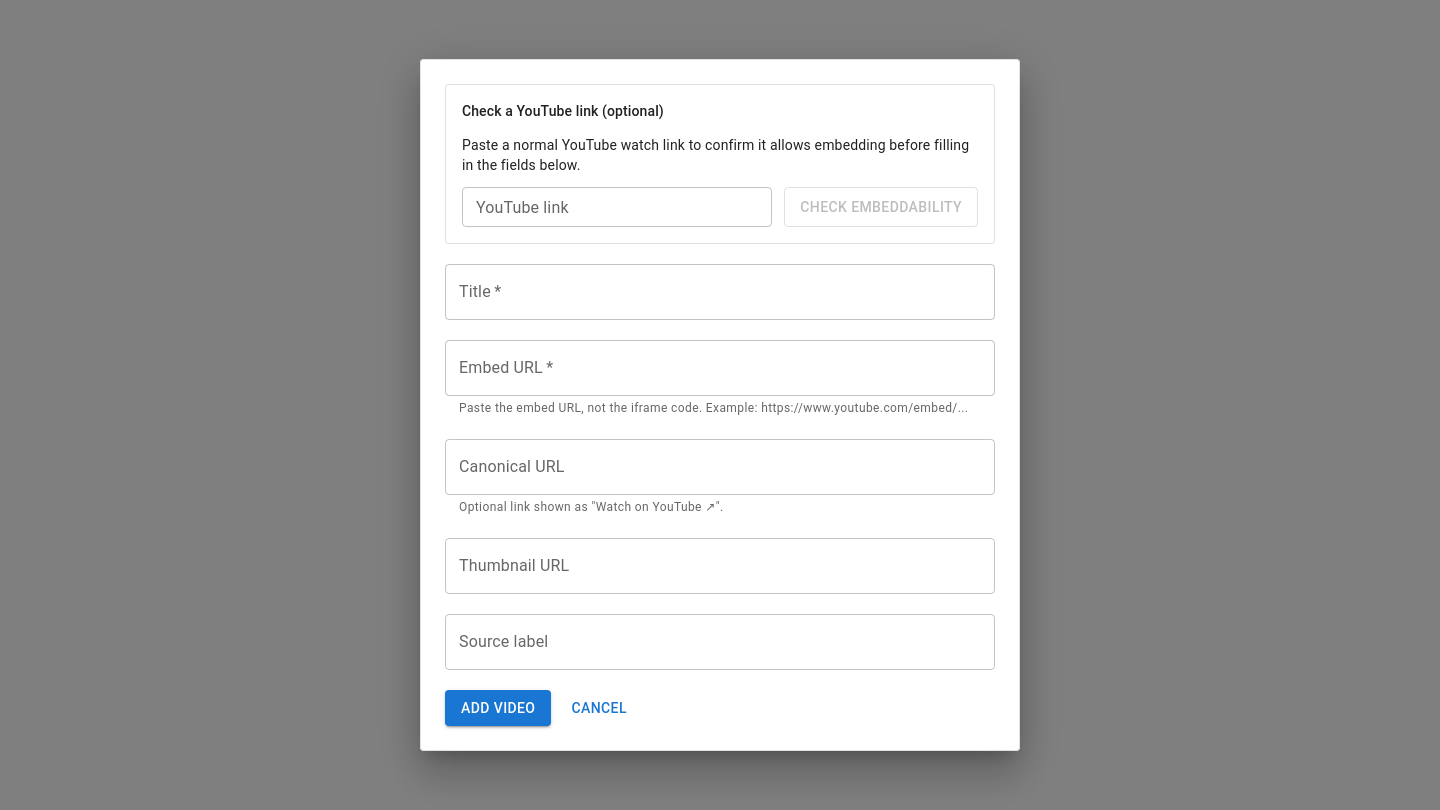
it: CuratedVideoForm — YouTube checker integration › rejects an oEmbed check URL typed directly into Embed URL, with a clear explanation
Type "Test video" into the field labelled "Title" at {"x": 720, "y": 292}, box left=445, top=264, right=995, bottom=320
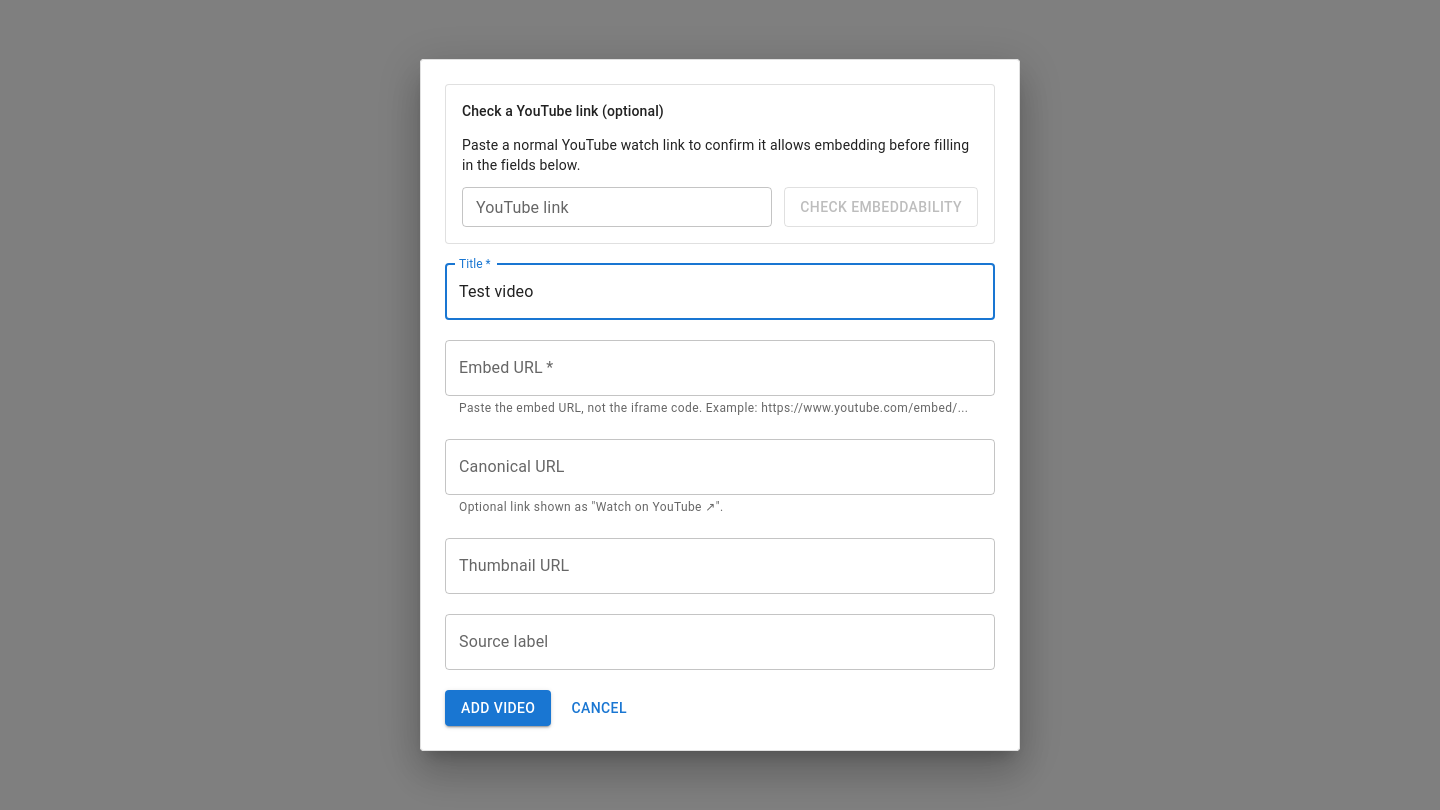
Type "https://www.youtube.com/oembed?url=https://www.youtube.com/watch?v=xWr-cyWMdJ4" into the field labelled "Embed URL" at {"x": 720, "y": 368}, box left=445, top=340, right=995, bottom=396
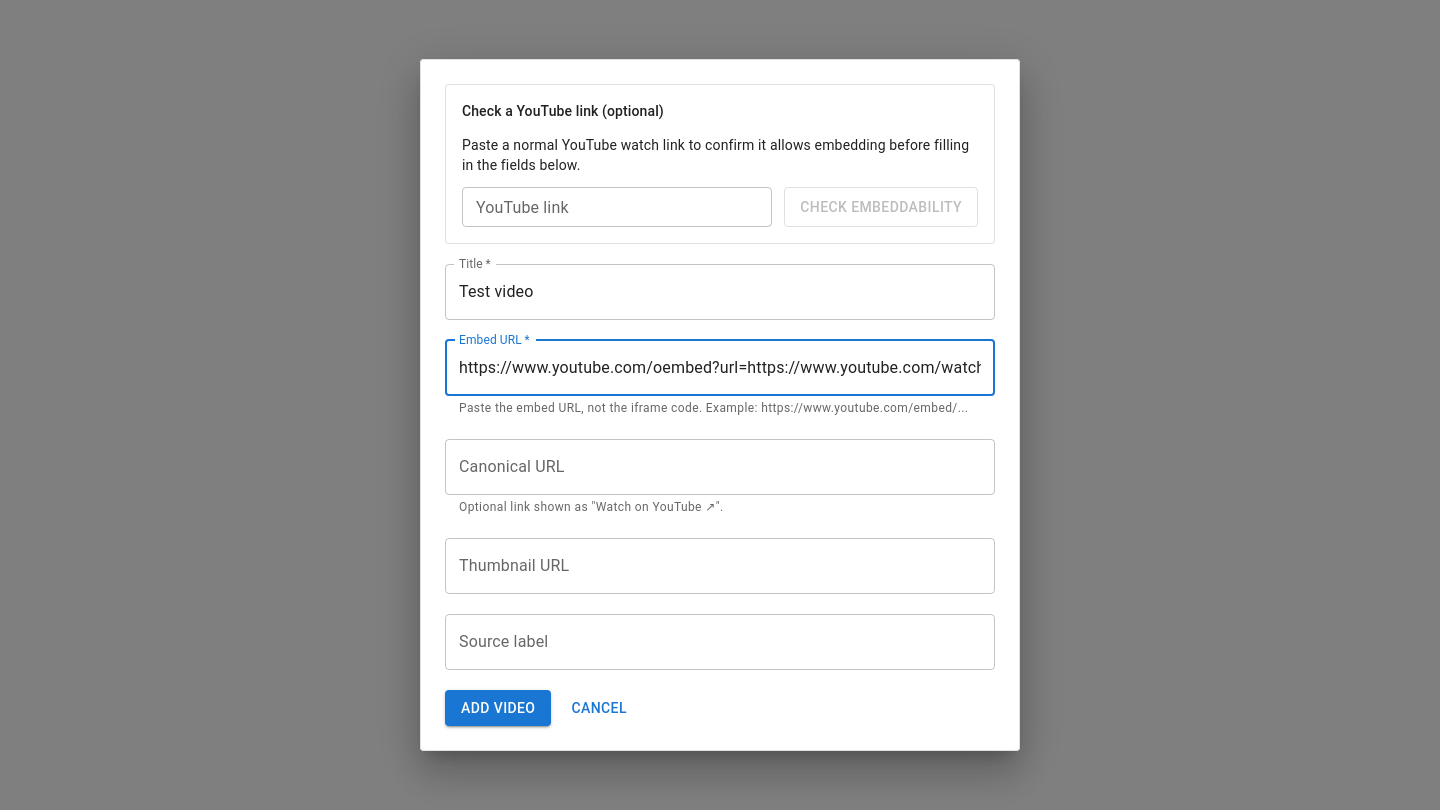
Click the button "Add video" at {"x": 498, "y": 708}, box left=445, top=690, right=552, bottom=726
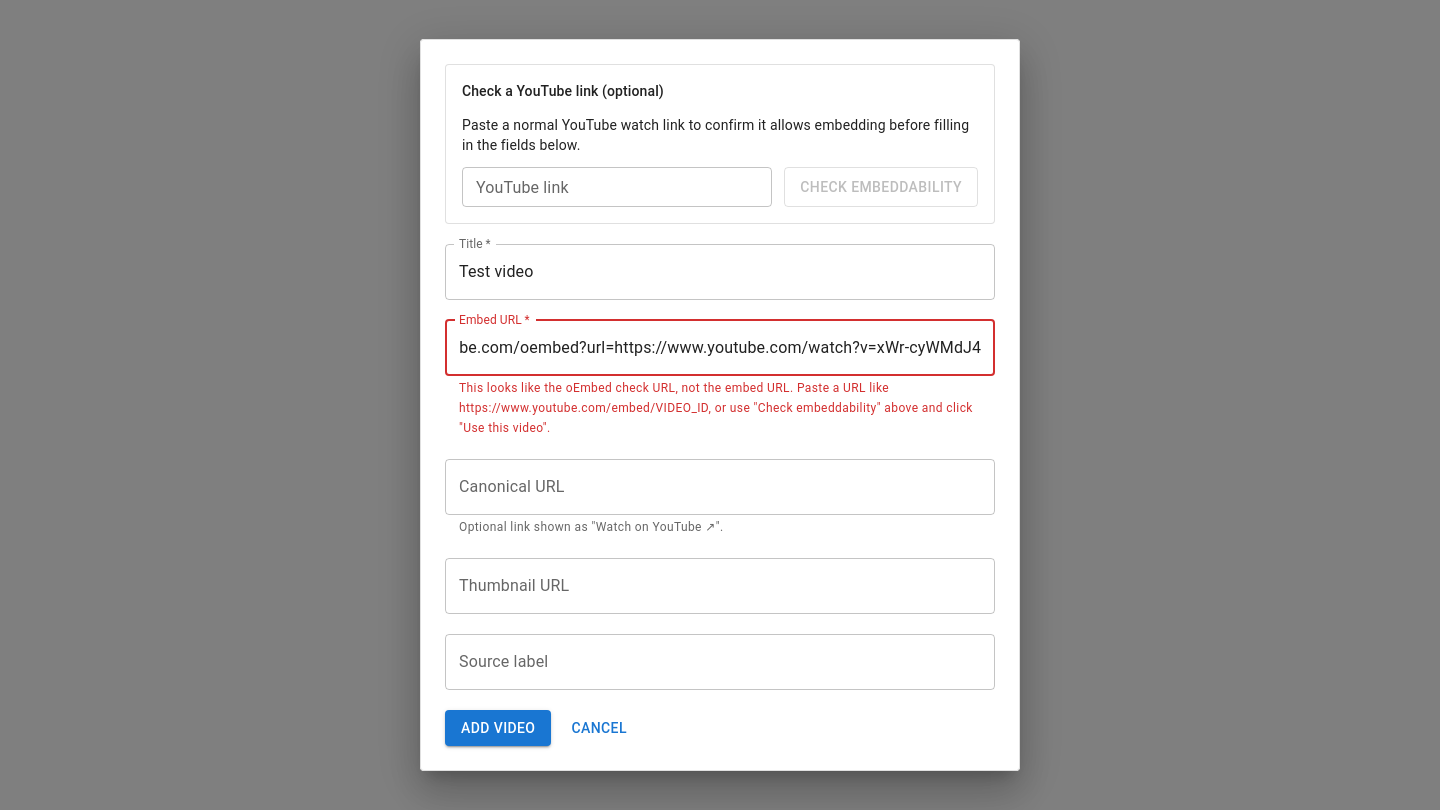
Expected: the text "oEmbed check URL, not the embed URL" is shown, left=459, top=381, right=973, bottom=435
